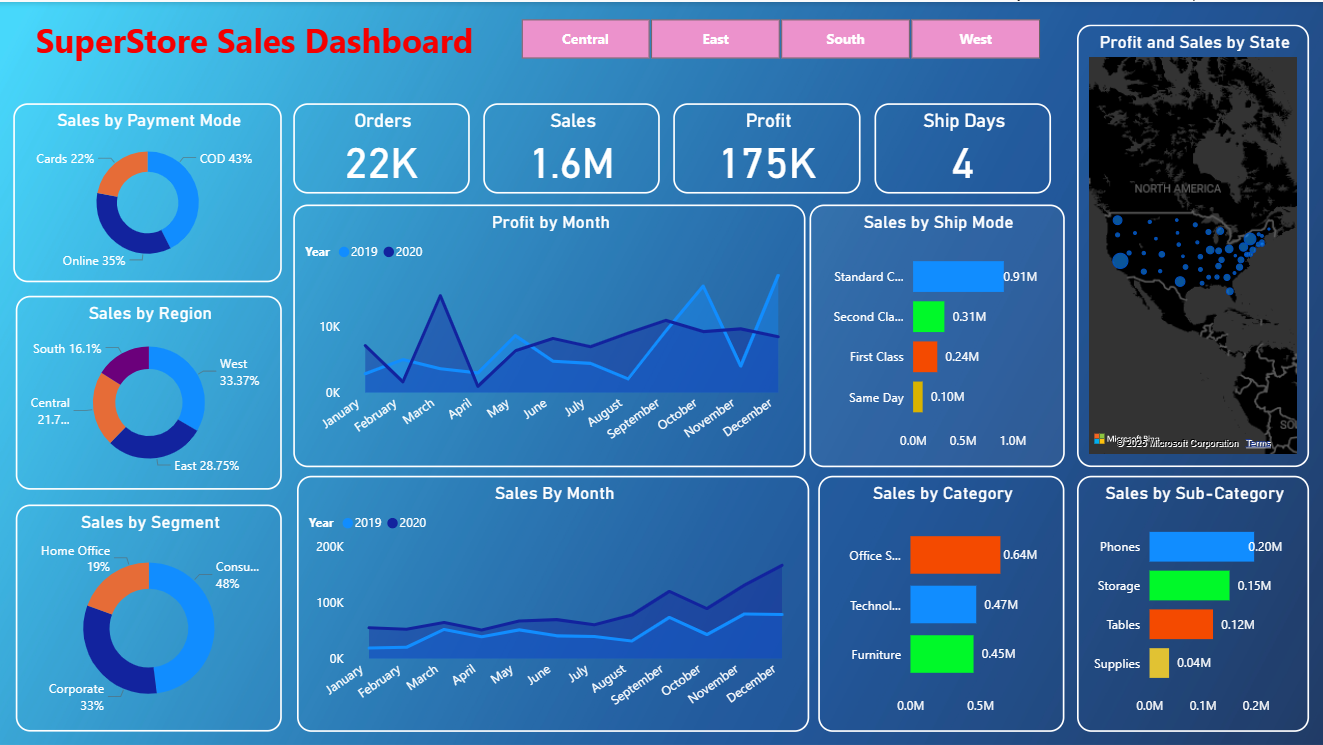

This screenshot's page, from the dashboard's own definition file:
{"tool":"powerbi","page":{"name":"Page 1","canvas":[1280,720],"ordinal":0},"visuals":[{"type":"barChart","title":"Sales by Category","fields":{"Y":["Sum(SuperStore_Sales_Dataset.Sales)"],"Category":["SuperStore_Sales_Dataset.Category"]},"box":[792.6,457.2,237.7,255.8],"z":0},{"type":"barChart","title":"Sales by Sub-Category","fields":{"Y":["Sum(SuperStore_Sales_Dataset.Sales)"],"Category":["SuperStore_Sales_Dataset.Sub-Category"]},"box":[1042.4,457.2,224.4,255.8],"z":1000},{"type":"barChart","title":"Sales by Ship Mode","fields":{"Y":["Sum(SuperStore_Sales_Dataset.Sales)"],"Category":["SuperStore_Sales_Dataset.Ship Mode"]},"box":[784.2,195.4,246.1,253.4],"z":2000},{"type":"areaChart","title":"Monthly Profit by YoY","fields":{"Y":["Sum(SuperStore_Sales_Dataset.Profit)"],"Series":["SuperStore_Sales_Dataset.Order Date.Variation.Date Hierarchy.Year"],"Category":["SuperStore_Sales_Dataset.Order Date.Variation.Date Hierarchy.Month"]},"box":[285.9,195.4,494.6,243.7],"z":3000},{"type":"areaChart","title":"Monthly Sales by YoY","fields":{"Y":["Sum(SuperStore_Sales_Dataset.Sales)"],"Category":["SuperStore_Sales_Dataset.Order Date.Variation.Date Hierarchy.Month"],"Series":["SuperStore_Sales_Dataset.Order Date.Variation.Date Hierarchy.Year"]},"box":[289.5,457.2,494.6,255.8],"z":4000},{"type":"map","title":"Profit and Sales by State","fields":{"Category":["SuperStore_Sales_Dataset.State"],"Size":["Sum(SuperStore_Sales_Dataset.Sales)"]},"box":[1042.4,21.7,224.4,427.1],"z":5000},{"type":"donutChart","title":"Sales by Payment Mode","fields":{"Y":["Sum(SuperStore_Sales_Dataset.Sales)"],"Category":["SuperStore_Sales_Dataset.Payment Mode"]},"box":[15.7,97.7,259.4,172.5],"z":6000},{"type":"donutChart","title":"Sales by Segment","fields":{"Category":["SuperStore_Sales_Dataset.Segment"],"Y":["Sum(SuperStore_Sales_Dataset.Sales)"]},"box":[18.1,485,257,228],"z":7000},{"type":"slicer","fields":{"Values":["SuperStore_Sales_Dataset.Region"]},"box":[480.2,9.7,550.1,51.9],"z":8000},{"type":"donutChart","title":"Sales by Region","fields":{"Y":["Sum(SuperStore_Sales_Dataset.Sales)"],"Category":["SuperStore_Sales_Dataset.Region"]},"box":[18.1,283.5,257,187],"z":9000},{"type":"card","title":"Sales","fields":{"Values":["Sum(SuperStore_Sales_Dataset.Sales)"]},"box":[285.9,97.7,170.1,86.9],"z":10000},{"type":"textbox","box":[0,9.7,497.1,66.4],"z":11000},{"type":"card","title":"Quantity","fields":{"Values":["Sum(SuperStore_Sales_Dataset.Quantity)"]},"box":[469.3,97.7,170.1,86.9],"z":12000},{"type":"card","title":"Profit","fields":{"Values":["Sum(SuperStore_Sales_Dataset.Profit)"]},"box":[652.7,97.7,181,86.9],"z":13000},{"type":"card","title":"Ship Days","fields":{"Values":["Avg(SuperStore_Sales_Dataset.AvgDelivery)"]},"box":[846.9,97.7,170.1,86.9],"z":14000}]}

Visuals, with their boxes in screenshot pixels (x1, y1, x2, y2), scaled from the page's 1280x720 canvas onto the 1323x745 screenshot:
"Sales by Category" barChart: pyautogui.locateOnScreen(819, 473, 1065, 738)
"Sales by Sub-Category" barChart: pyautogui.locateOnScreen(1077, 473, 1309, 738)
"Sales by Ship Mode" barChart: pyautogui.locateOnScreen(811, 202, 1065, 464)
"Monthly Profit by YoY" areaChart: pyautogui.locateOnScreen(296, 202, 807, 454)
"Monthly Sales by YoY" areaChart: pyautogui.locateOnScreen(299, 473, 810, 738)
"Profit and Sales by State" map: pyautogui.locateOnScreen(1077, 22, 1309, 464)
"Sales by Payment Mode" donutChart: pyautogui.locateOnScreen(16, 101, 284, 280)
"Sales by Segment" donutChart: pyautogui.locateOnScreen(19, 502, 284, 738)
slicer - SuperStore_Sales_Dataset.Region: pyautogui.locateOnScreen(496, 10, 1065, 64)
"Sales by Region" donutChart: pyautogui.locateOnScreen(19, 293, 284, 487)
"Sales" card: pyautogui.locateOnScreen(296, 101, 471, 191)
textbox: pyautogui.locateOnScreen(0, 10, 514, 79)
"Quantity" card: pyautogui.locateOnScreen(485, 101, 661, 191)
"Profit" card: pyautogui.locateOnScreen(675, 101, 862, 191)
"Ship Days" card: pyautogui.locateOnScreen(875, 101, 1051, 191)
